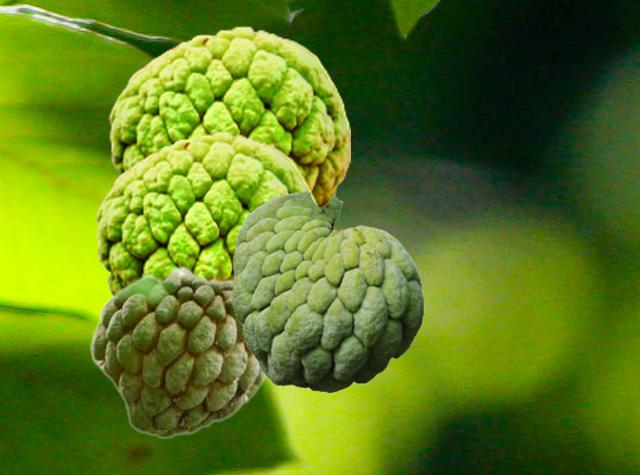atis: (108, 25, 349, 205), (231, 190, 423, 392), (95, 130, 321, 295), (88, 265, 267, 438)
